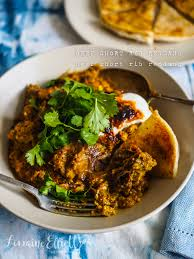rendang: (2, 63, 188, 228)
